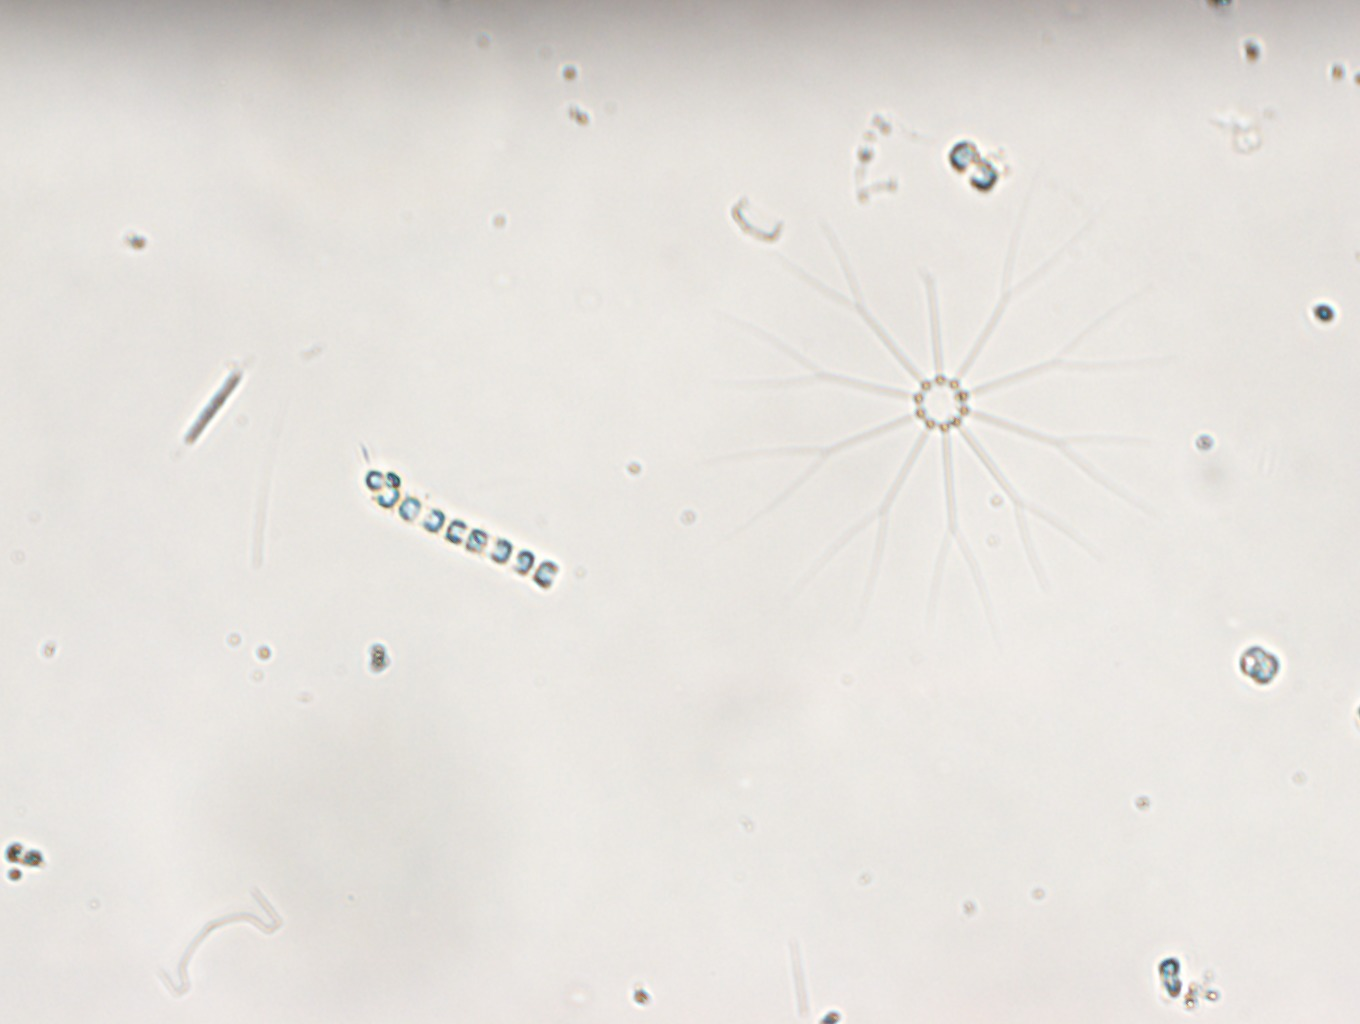bacteriastrum: (716, 183, 1169, 630)
skeletonema: (361, 470, 560, 589)
